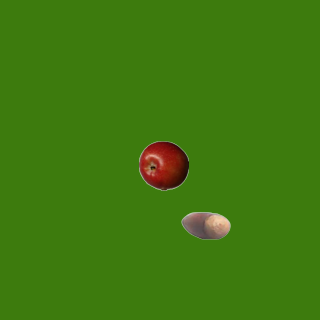Apple Braeburn: (138, 140, 188, 190)
Hazelnut: (180, 200, 230, 250)
